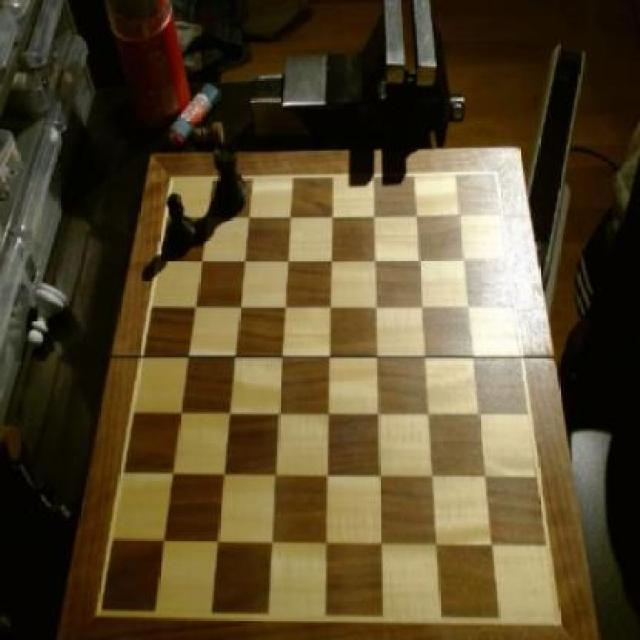black-knight: (166, 191, 195, 255)
black-queen: (210, 142, 244, 213)
